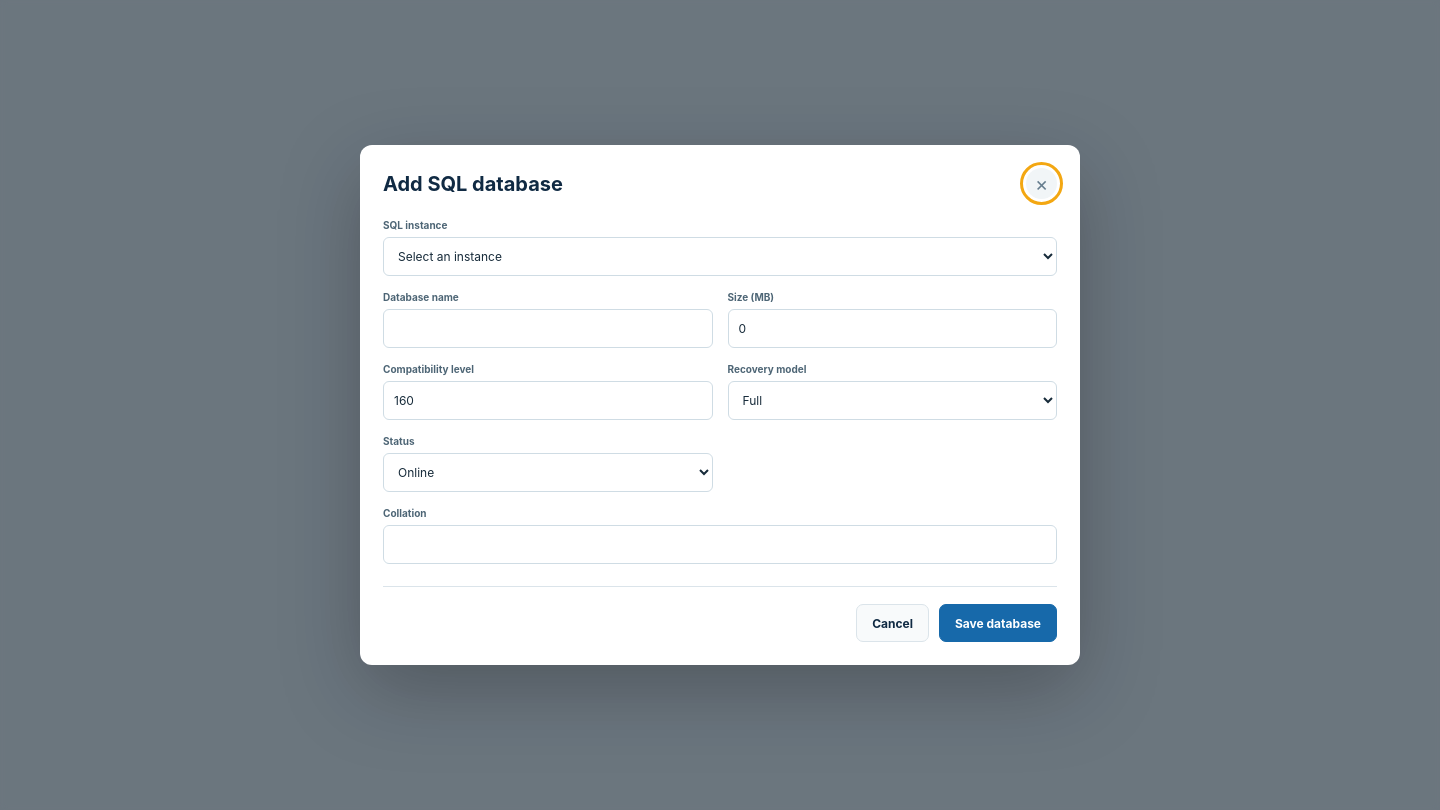
Test: SQL inventory forms › validates database ownership and numeric boundaries
Click the button "Save database".
click(998, 623)  # box [939, 604, 1057, 642]
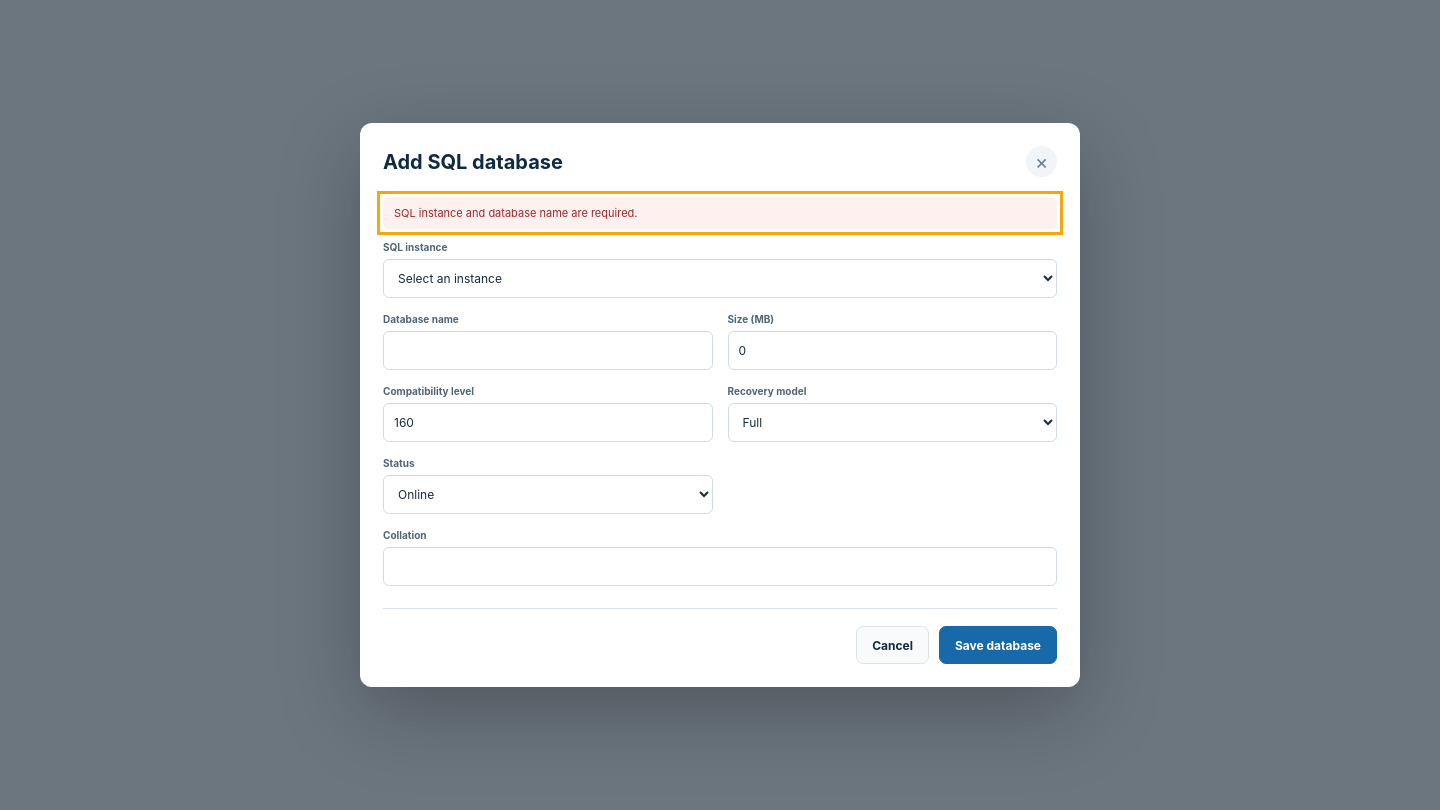
Expected: the message shows "required", [394, 206, 638, 220]
